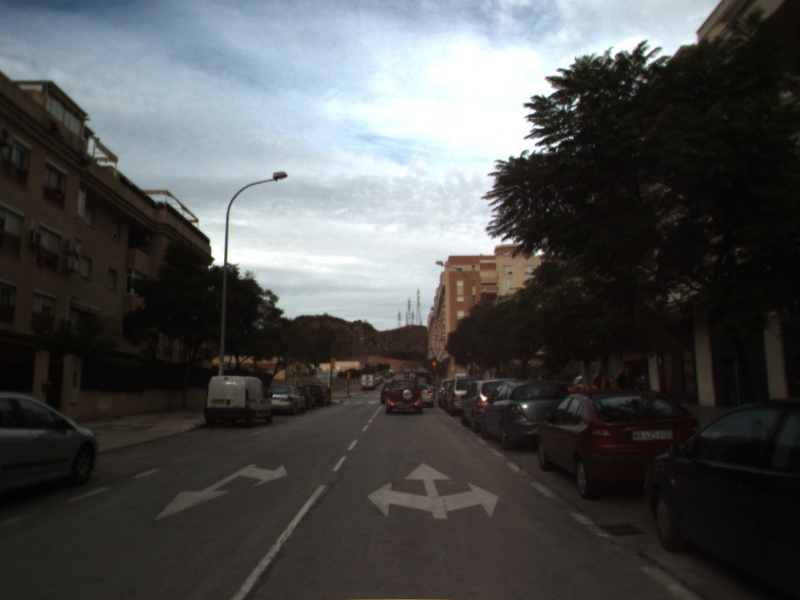STRAIGHT_LEFT_RIGHT: (365, 461, 501, 521)
